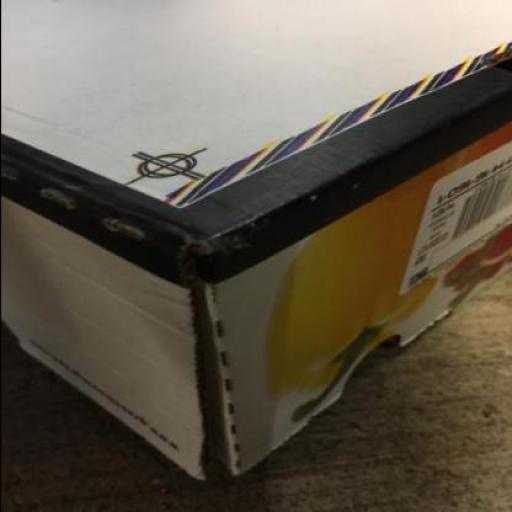cardboard: (1, 0, 511, 480)
